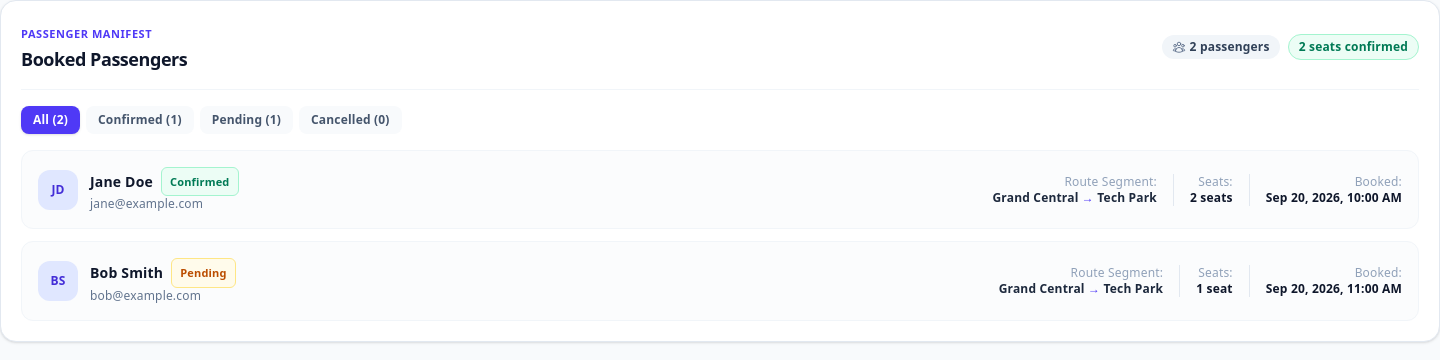
TripPassengersSection › filters passengers by status when clicking filter tabs
Expected: the text "Jane Doe" is shown, top-left (90, 172), bottom-right (153, 192)
Expected: the text "Bob Smith" is shown, top-left (90, 263), bottom-right (163, 283)
Note: Click 'Confirmed' filter tab
Step 1. Click the tab "Confirmed (1)" → (140, 120), box top-left (86, 106), bottom-right (194, 134)
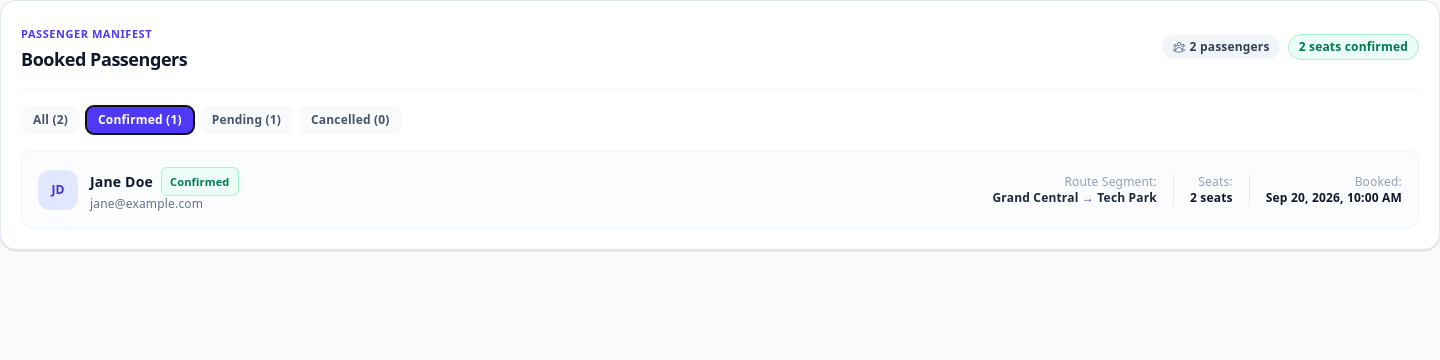
Expected: the text "Jane Doe" is shown, top-left (90, 172), bottom-right (153, 192)
Result: the text "Bob Smith" is gone
Note: Click 'Cancelled' filter tab
Step 2. Click the tab "Cancelled (0)" → (350, 120), box top-left (299, 106), bottom-right (402, 134)
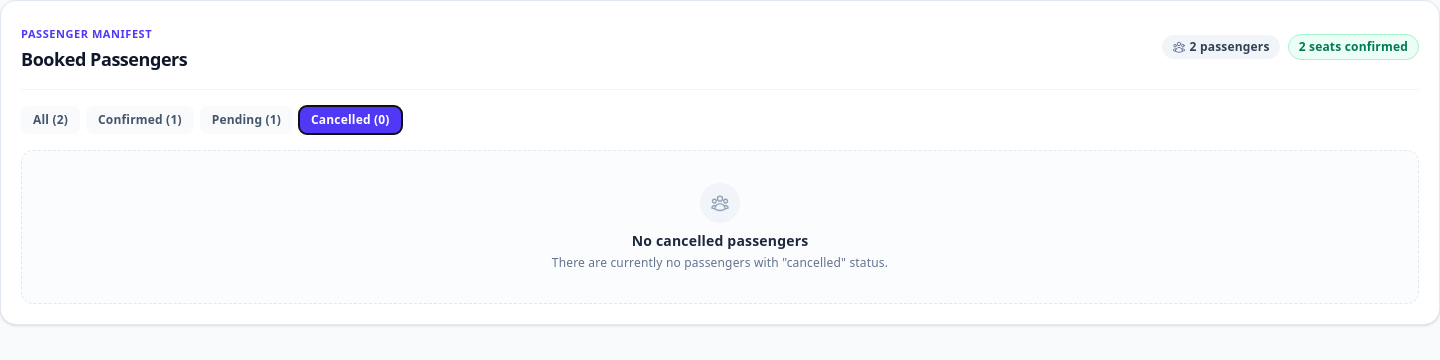
Expected: the text "Bob Smith" is not shown
Result: the text "Jane Doe" is gone
Result: the text "No cancelled passengers" is shown at top-left (632, 231), bottom-right (808, 250)
